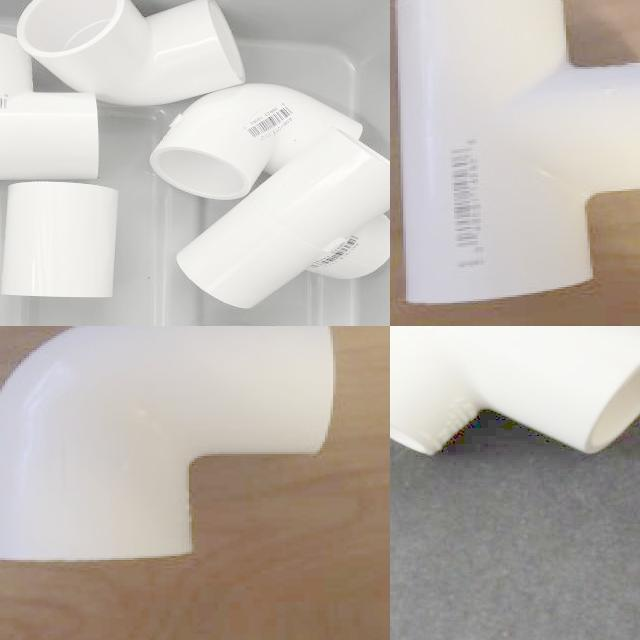L Joint: (0, 326, 336, 565), (23, 0, 246, 107)
T Joint: (393, 0, 640, 308), (177, 127, 390, 312), (0, 34, 100, 185)
